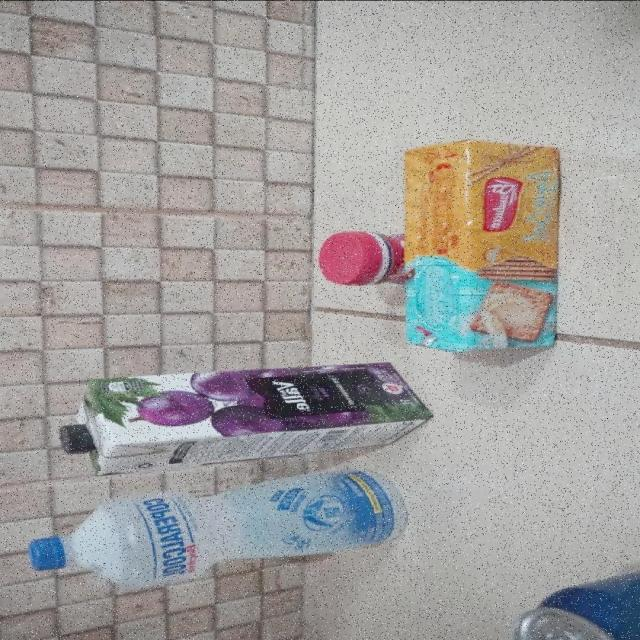AlcoholBottle: (27, 466, 410, 588)
Cracker: (401, 139, 565, 352)
SodaCan: (510, 556, 640, 640)
Yeast: (316, 230, 405, 286)
